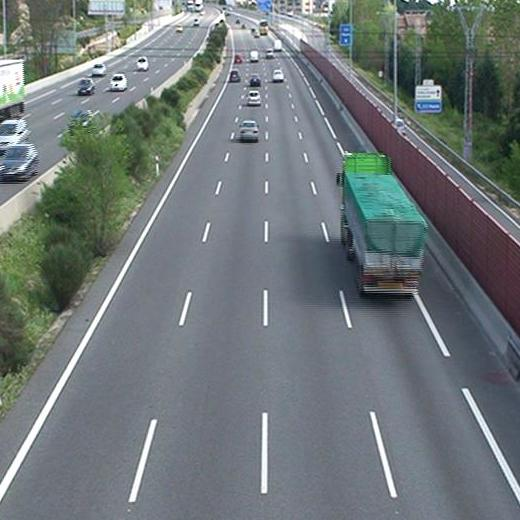car: (238, 119, 260, 142), (247, 90, 261, 106), (271, 69, 285, 83), (229, 69, 240, 83), (248, 74, 260, 85), (233, 53, 243, 66), (264, 48, 274, 58)
truck: (337, 152, 429, 300)
van: (272, 40, 284, 51), (250, 50, 258, 62)
